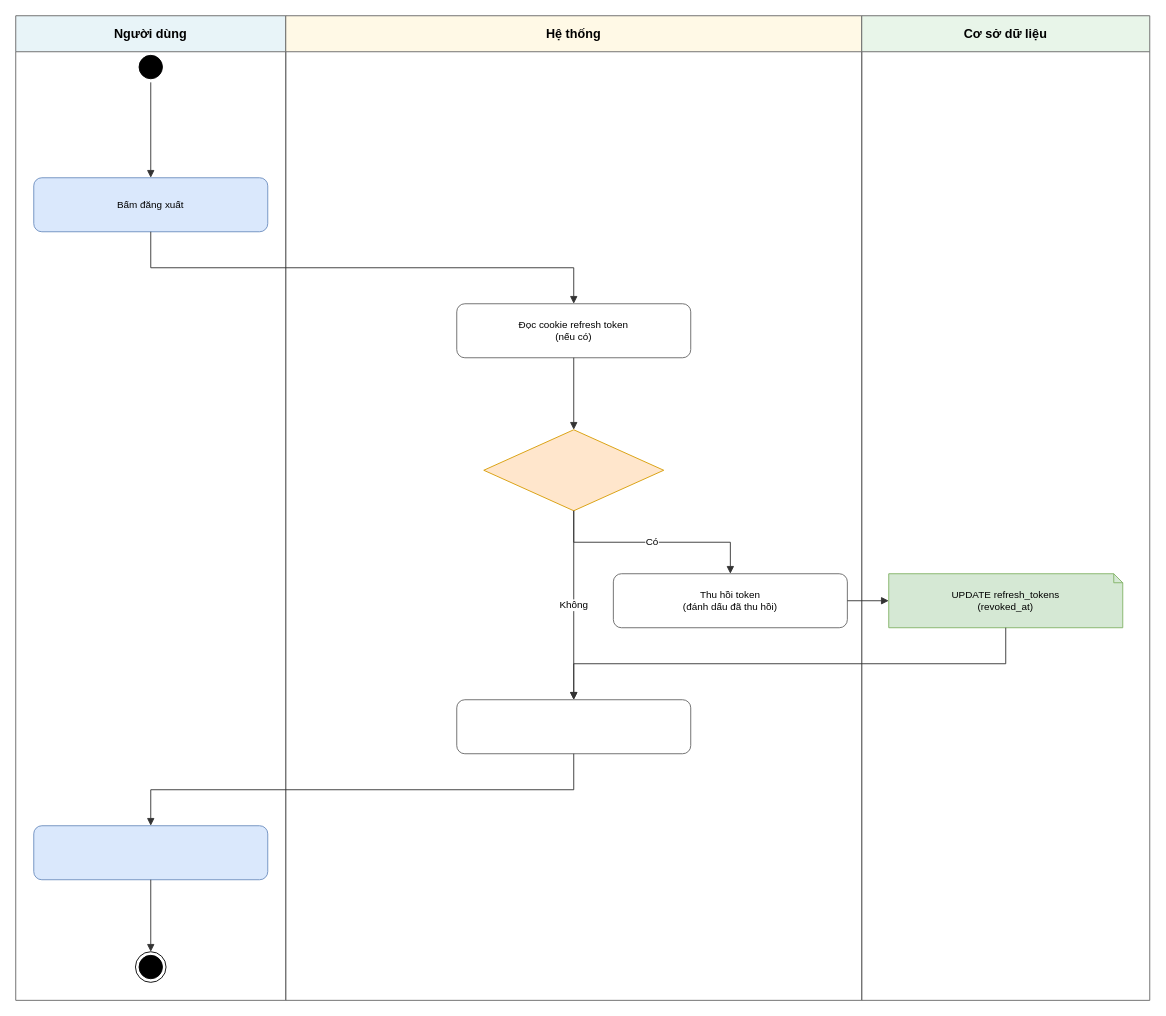
The diagram is 1166 pixels wide and 1016 high, and some of its shapes have lost their labels. The centre of each missing label's shape, as x and y in pixels:
"Chuyển về trang đăng nhập" goes at (x=150, y=852).
"Có cookie?" goes at (x=573, y=470).
"Xoá cookie" goes at (x=573, y=726).
